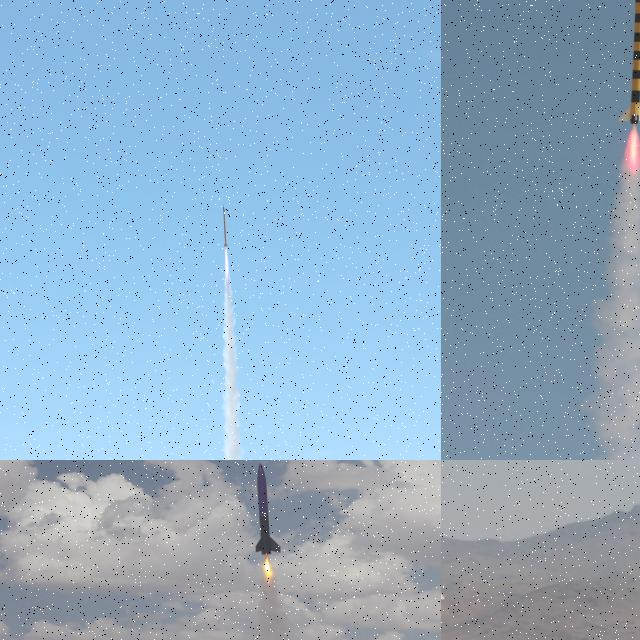Rocket: (615, 0, 640, 125), (256, 462, 281, 555), (223, 204, 228, 248)
